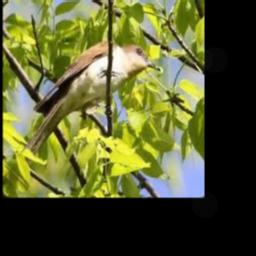Cuckoo: (20, 42, 160, 168)
